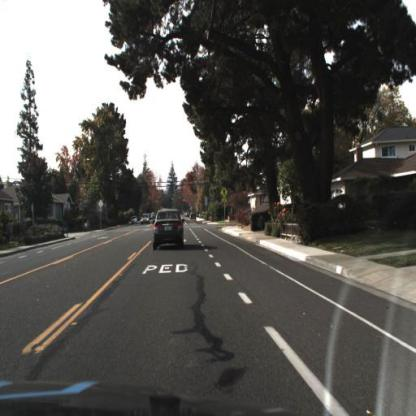car: (152, 210, 186, 250), (141, 213, 151, 225)
